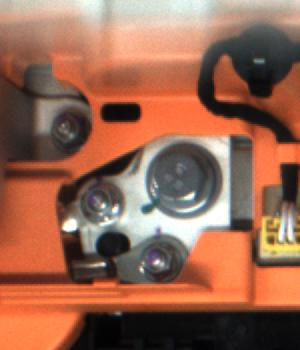nut_b: (142, 142, 228, 222)
screw_s: (77, 180, 128, 227), (137, 245, 186, 287), (44, 106, 83, 149)
